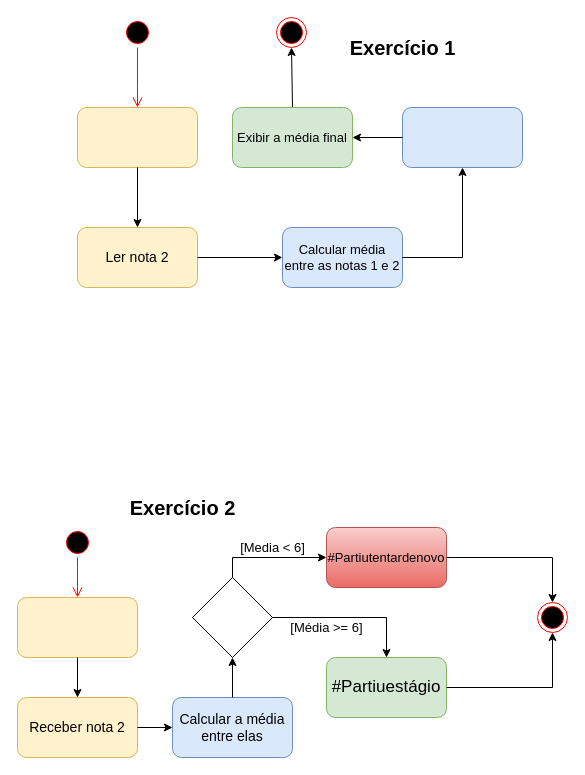
Some shapes in this 585 by 775 pixel diagram are drawn without their labels. Here are the shapes that lost their labels. From the top down, the box of each, then its label:
(76, 106, 198, 168): Ler nota 1
(402, 106, 522, 168): Dividar a média das notas por 2
(16, 596, 138, 658): Receber nota 1
